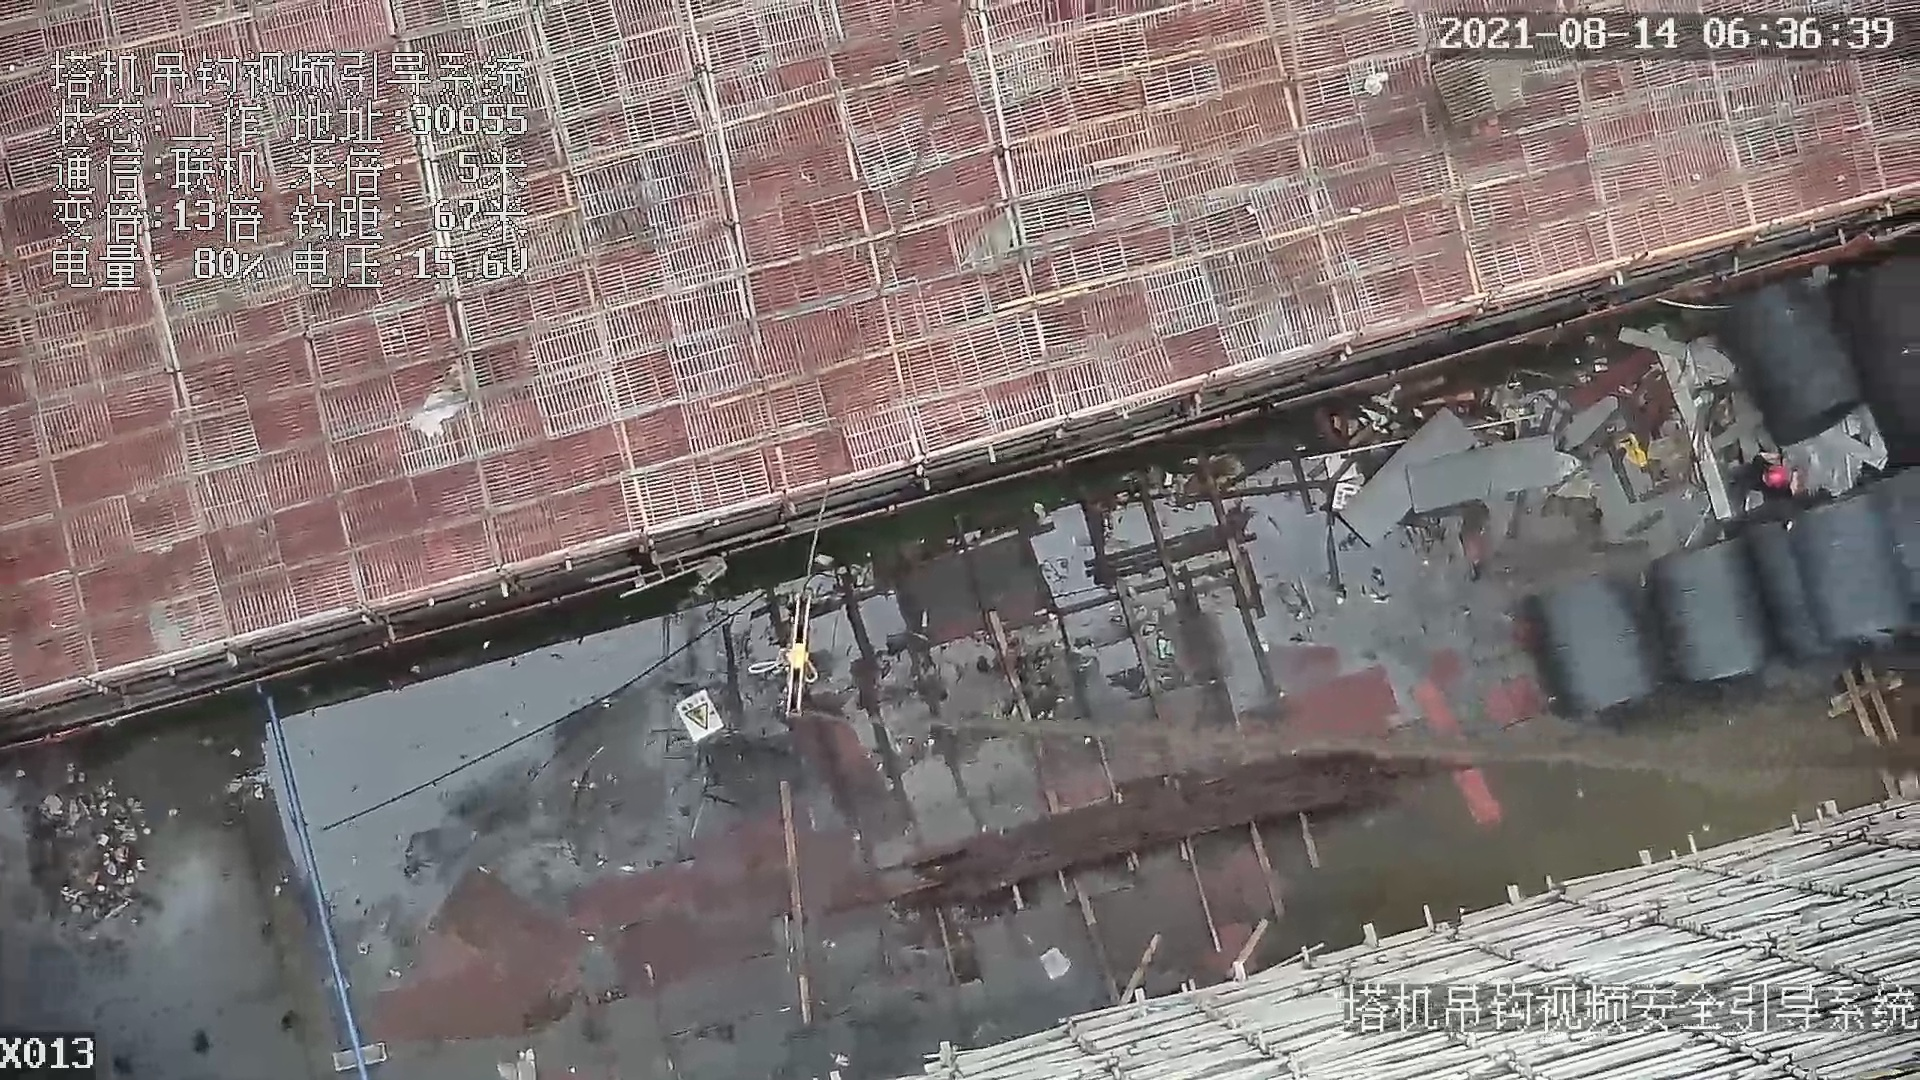helmet: (1763, 464, 1792, 497)
hook: (746, 585, 822, 713)
